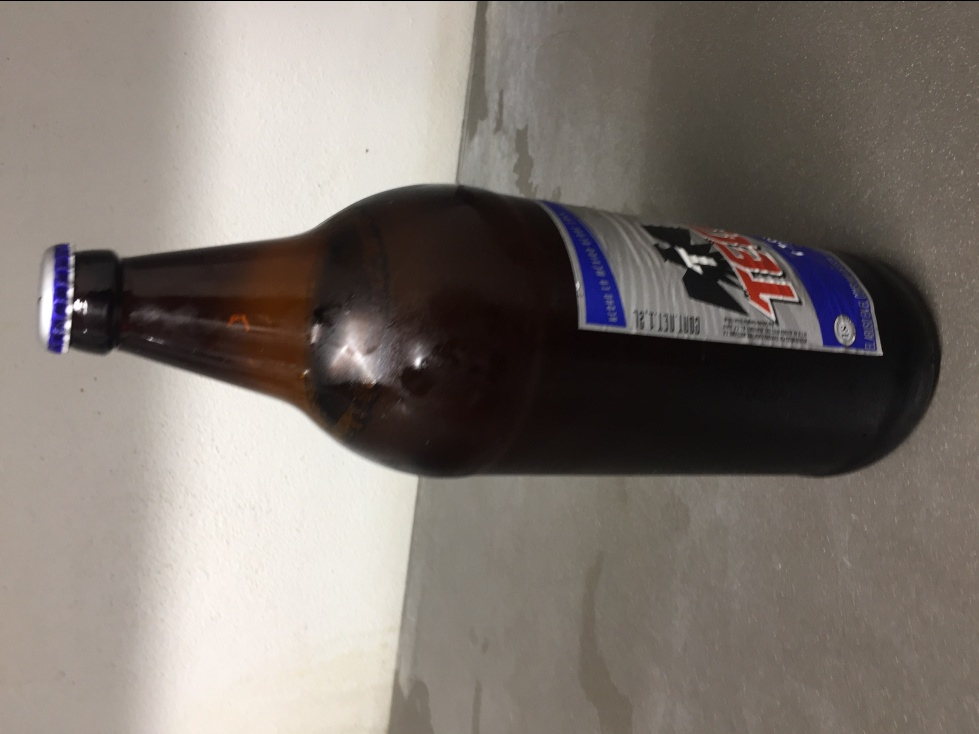tecateC: (37, 183, 943, 482)
